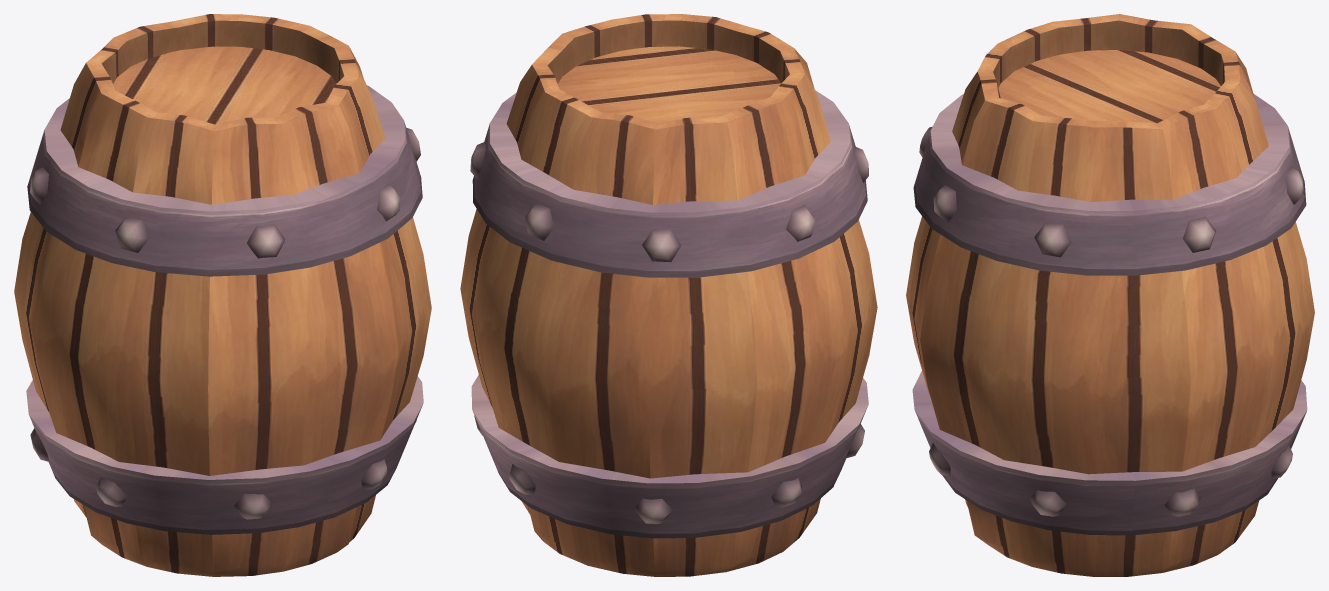
Rendered from barrel_stage4.glb.
3 renders of one model, left to right at view 1: azimuth 30°, elevation 25°; view 2: azimuth 150°, elevation 25°; view 3: azimuth 270°, elevation 25°, orthographic.
Visible parts, largest first — view 1: barrel_blockout; view 2: barrel_blockout; view 3: barrel_blockout.
Part boxes in pixels (bbox=[...]): barrel_blockout: bbox=[14, 14, 431, 576]; barrel_blockout: bbox=[460, 14, 877, 576]; barrel_blockout: bbox=[906, 14, 1314, 576].
Bounding box in the file's own units: 0.7928 × 0.9529 × 0.7873.
1 material, 1 textured.
